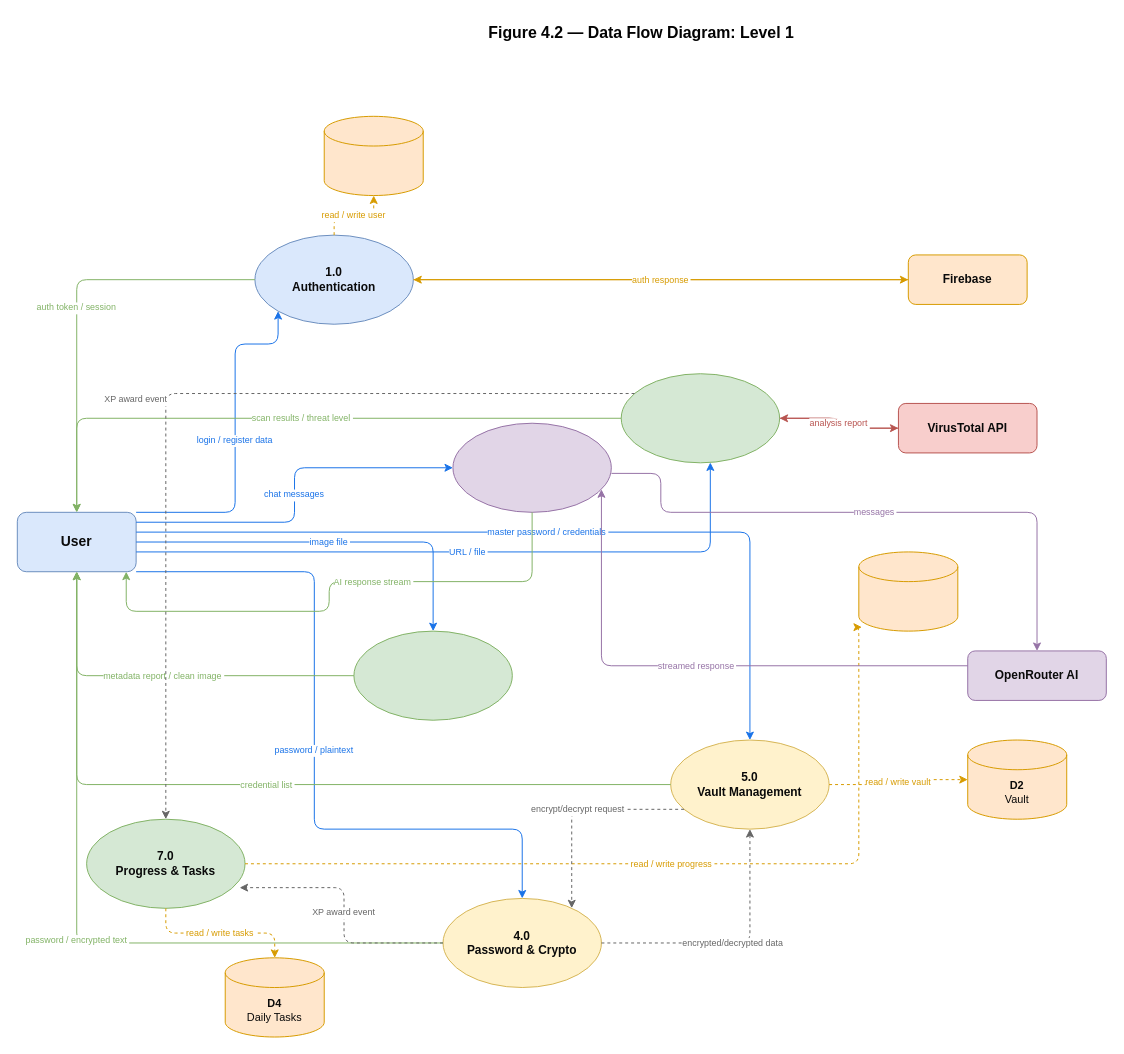
Image size: 1124x1054. Some labels were removed from this diagram. Each missing label, with the centre of its shape:
"2.0 URL / File Scanning" goes at (700,418).
"3.0 Image Privacy" goes at (432,675).
"6.0 AI Agent Chat" goes at (531,467).
"D1 Users" goes at (373,155).
"D3 Progress" goes at (908,591).
